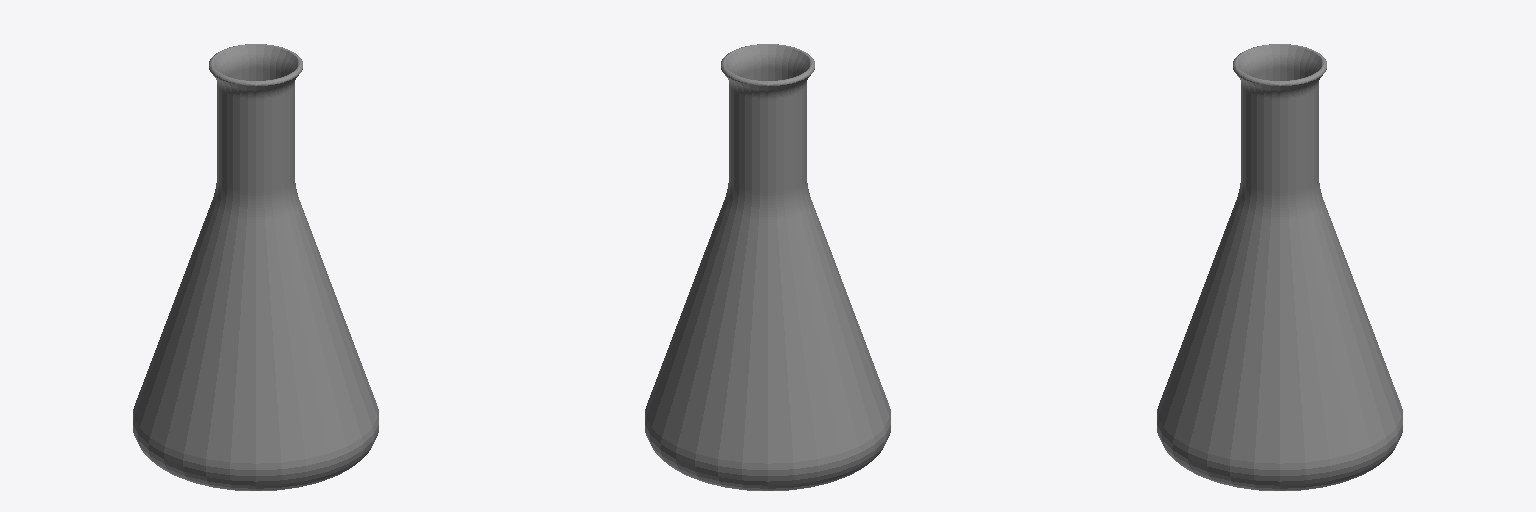
Rendered from Erlenmeyer.obj.
3 renders of one model, left to right at view 1: azimuth 30°, elevation 25°; view 2: azimuth 150°, elevation 25°; view 3: azimuth 270°, elevation 25°, orthographic.
Visible parts, largest first — view 1: Erlenmeyer; view 2: Erlenmeyer; view 3: Erlenmeyer.
Part boxes in pixels (x1,y1,x2,y2): Erlenmeyer: (133, 44, 378, 490); Erlenmeyer: (645, 44, 890, 490); Erlenmeyer: (1157, 44, 1402, 490).
Bounding box in the file's own units: 33.2 × 57.12 × 33.02.